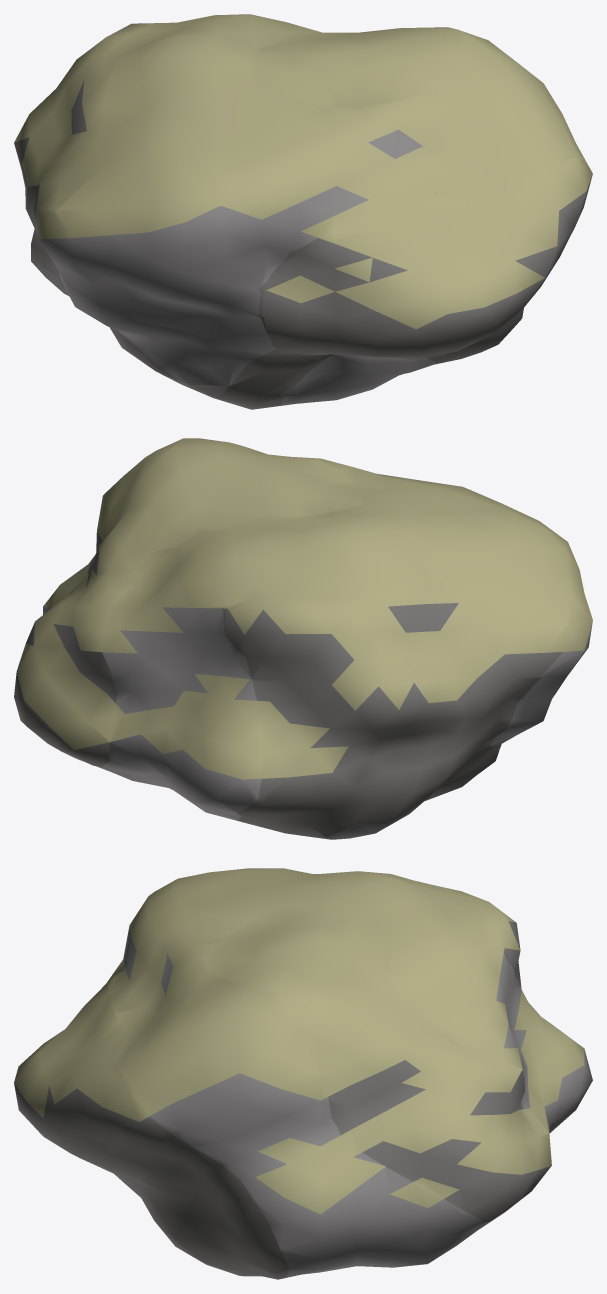
File: lichen_rock_1.glb
3 views of the same model, one above another, from view 1: azimuth 30°, elevation 25°; view 2: azimuth 150°, elevation 25°; view 3: azimuth 270°, elevation 25° (orthographic). The views are drawn at different scales.
Visible parts, largest first — view 1: lichen_rock_1; view 2: lichen_rock_1; view 3: lichen_rock_1.
Part boxes in pixels (left/top/right/bottom): lichen_rock_1: left=14, top=14, right=592, bottom=409; lichen_rock_1: left=14, top=438, right=592, bottom=839; lichen_rock_1: left=14, top=868, right=592, bottom=1279.
Size of the model in its own units: 1.71 by 0.9849 by 1.67.
